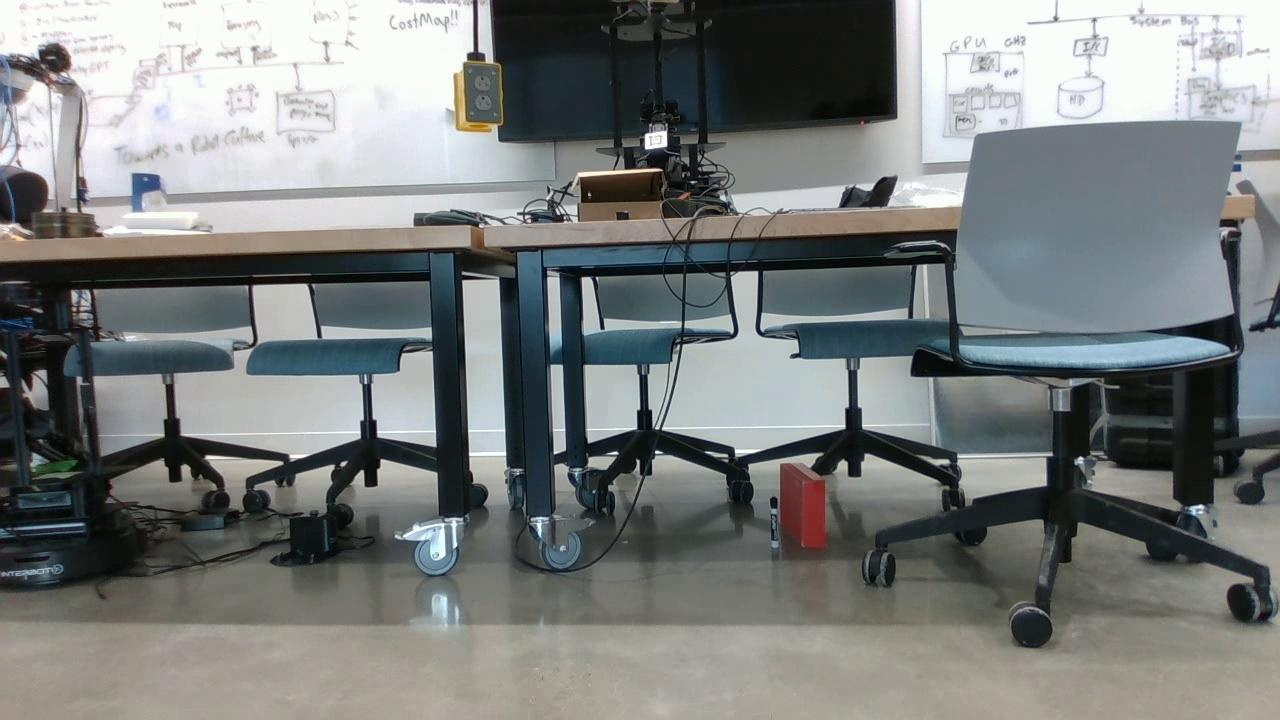grasshopper: (34, 460, 77, 474)
